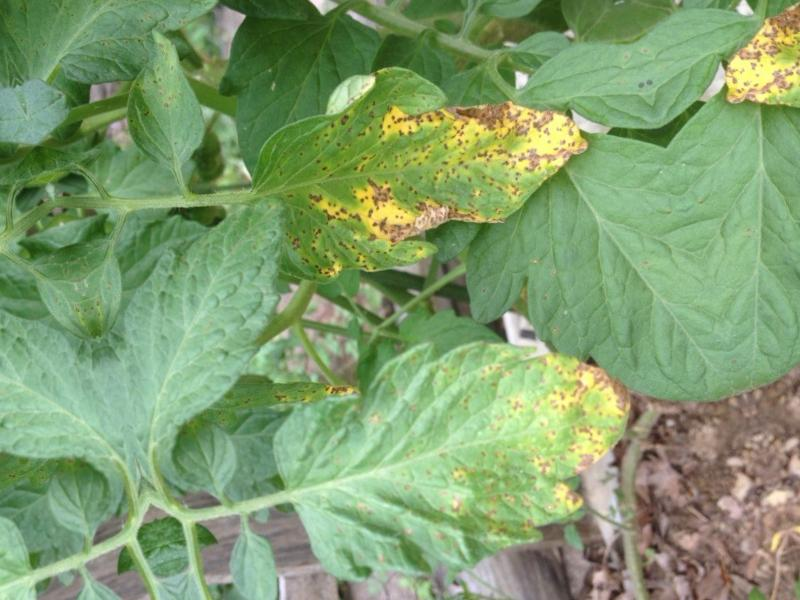Tomato Septoria leaf spot: (252, 272, 679, 600), (220, 9, 613, 305)
